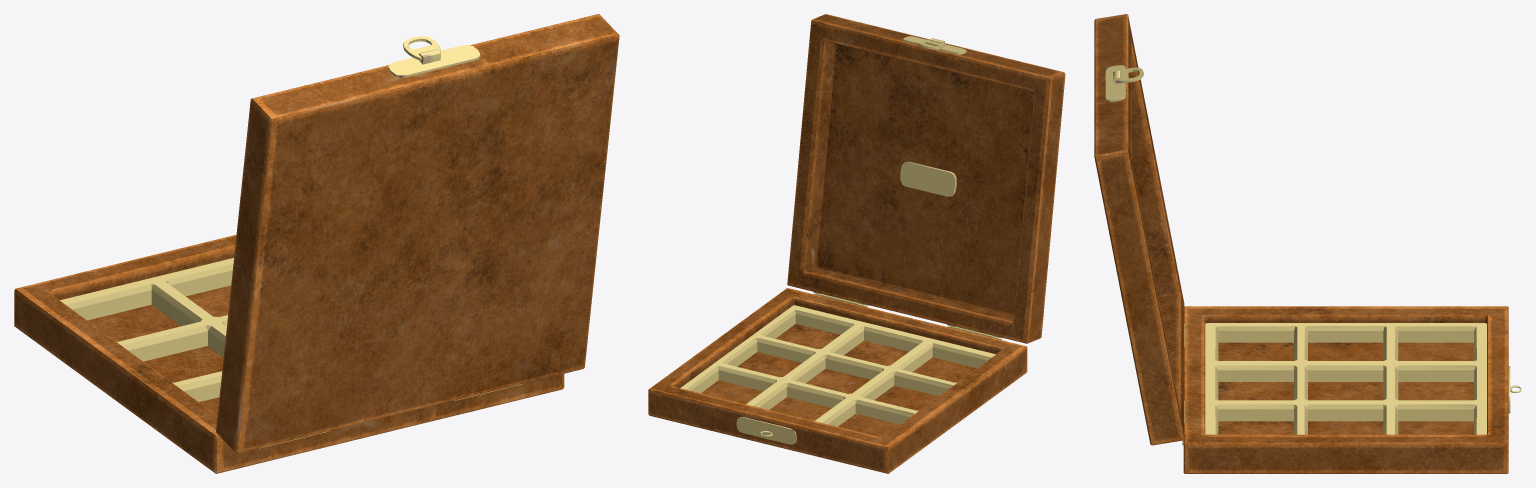
Rendered from tablero.gltf.
The picture shows the model from 3 angles, left to right: view 1: azimuth 30°, elevation 25°; view 2: azimuth 150°, elevation 25°; view 3: azimuth 270°, elevation 25°; orthographic projection. The views are drawn at different scales.
Visible parts, largest first — view 1: g; view 2: g; view 3: g.
Part boxes in pixels (<box>): g: <box>14,14,619,473</box>; g: <box>648,14,1065,473</box>; g: <box>1094,14,1521,473</box>.
Size of the model in its own units: 0.6318 by 0.7139 by 0.8298.
1 material, 1 textured.
